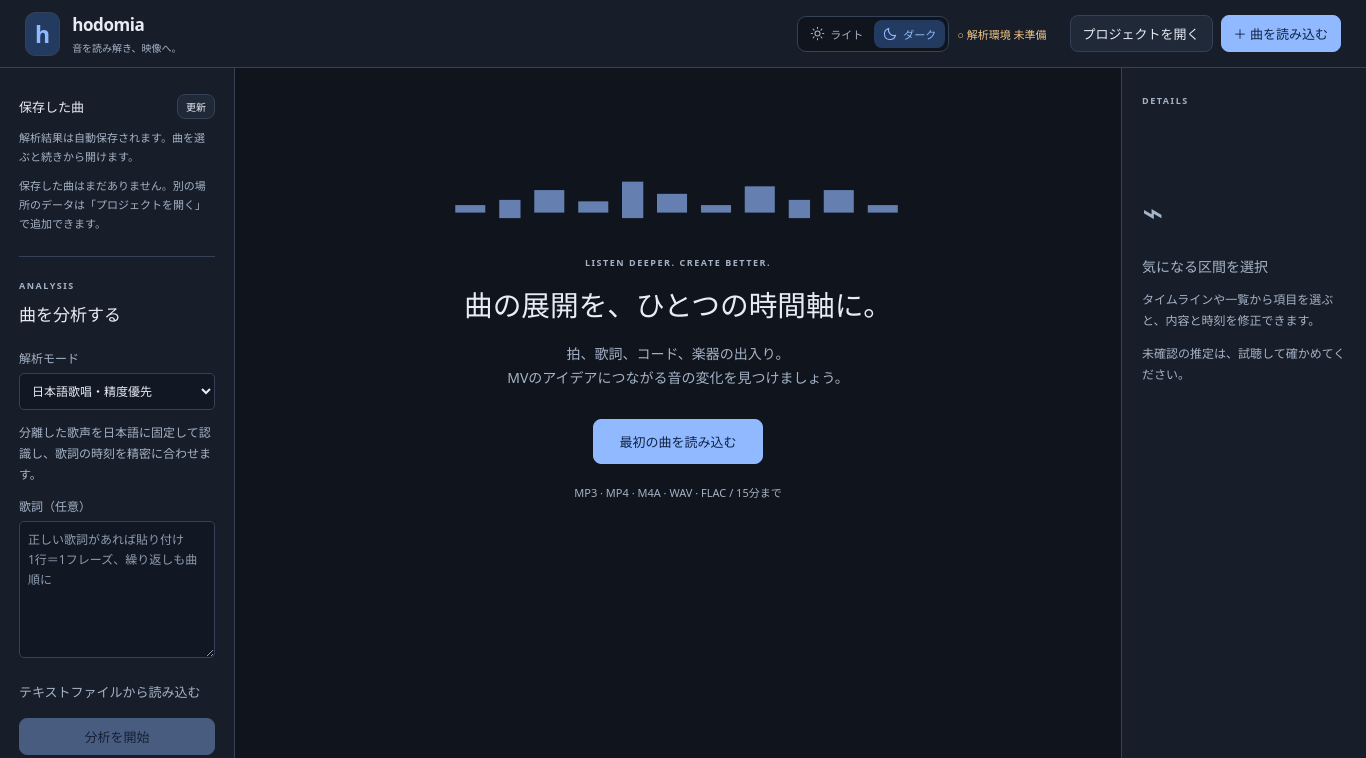
native failure is visible and can be retried
This screenshot has width=1366, height=758.
Click the button "プロジェクトを開く".
click(1141, 34)  # box [1070,15,1213,52]
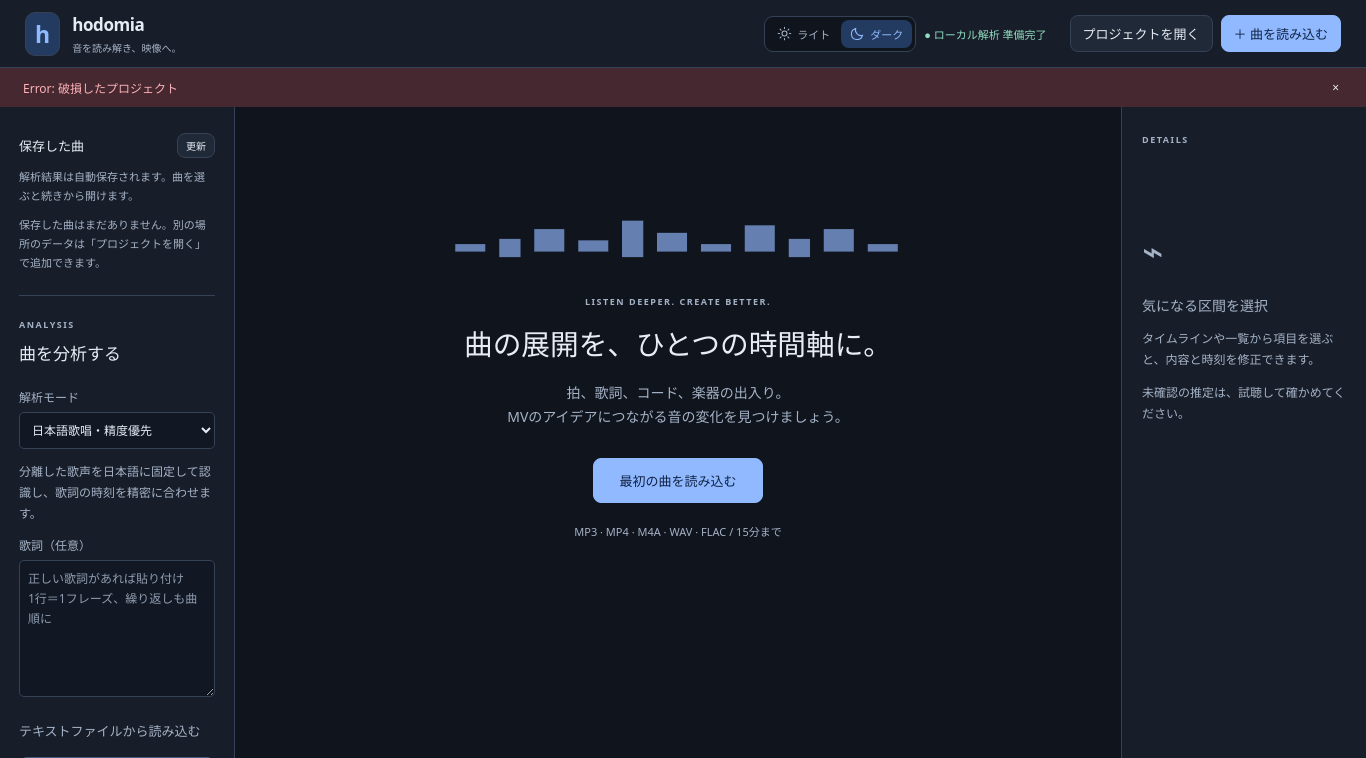
Check: the message shows "破損したプロジェクト", box [23,80,178,96]
